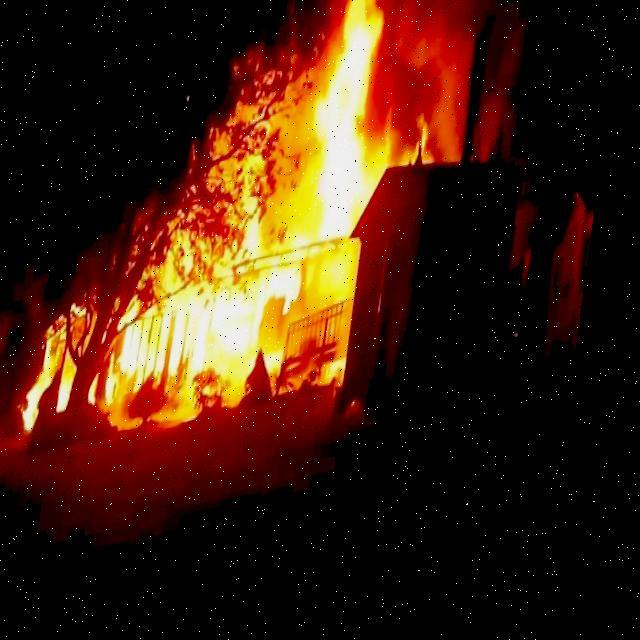Fire: (24, 0, 438, 483)
